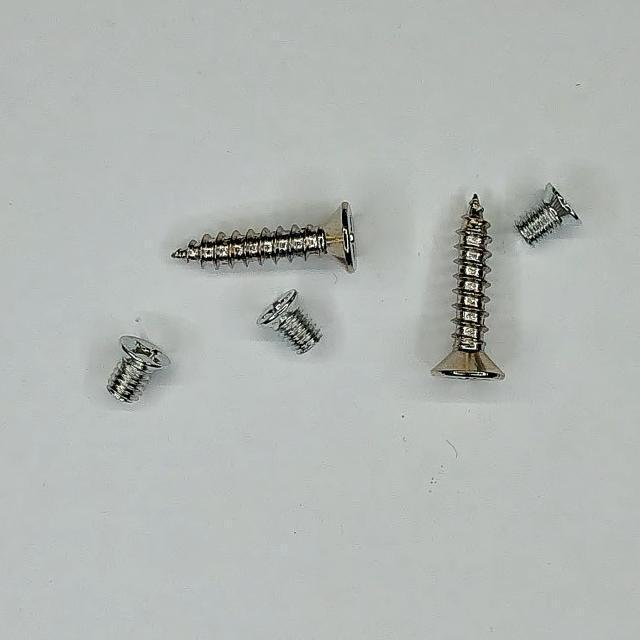Screw: (432, 194, 506, 380), (171, 202, 357, 272), (257, 289, 323, 354), (107, 336, 170, 402), (517, 183, 581, 244)
